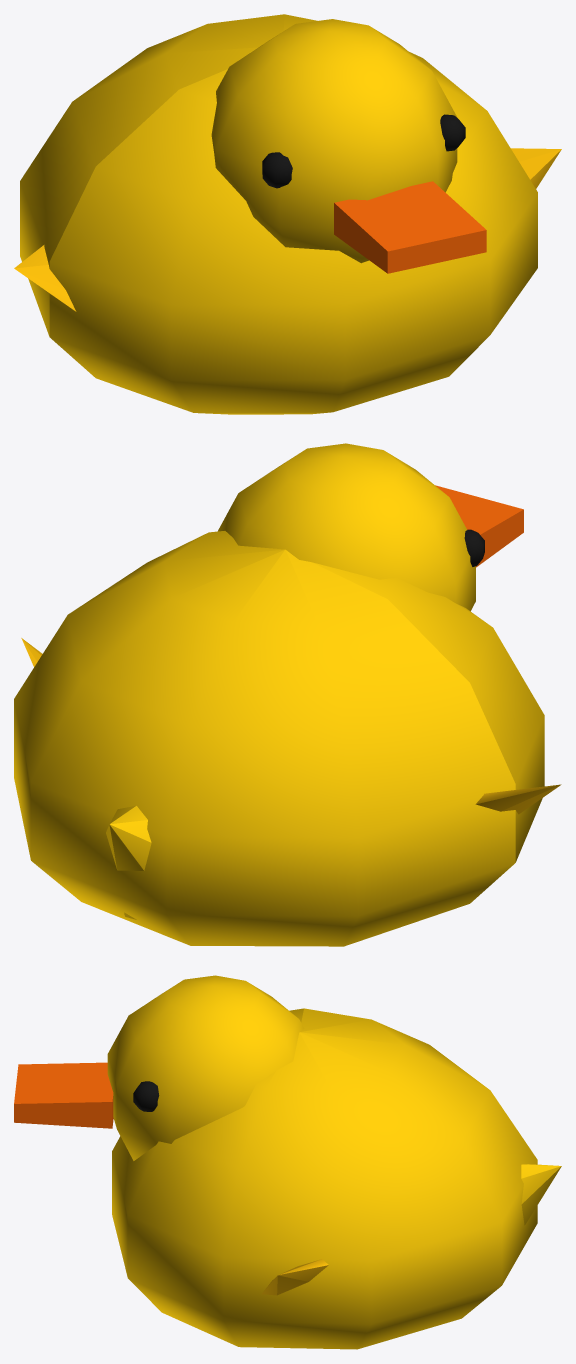
The model's file is ducky.glb.
3 views of the same model, one above another, from view 1: azimuth 30°, elevation 25°; view 2: azimuth 150°, elevation 25°; view 3: azimuth 270°, elevation 25° (orthographic). The views are drawn at different scales.
Visible parts, largest first — view 1: LowPolyRubberDuck; view 2: LowPolyRubberDuck; view 3: LowPolyRubberDuck.
Part boxes in pixels (x1=…): LowPolyRubberDuck: x1=14, y1=14, x2=561, y2=414; LowPolyRubberDuck: x1=14, y1=443, x2=561, y2=946; LowPolyRubberDuck: x1=14, y1=975, x2=561, y2=1349.
Size of the model in its own units: 2.1 by 1.48 by 2.22.
